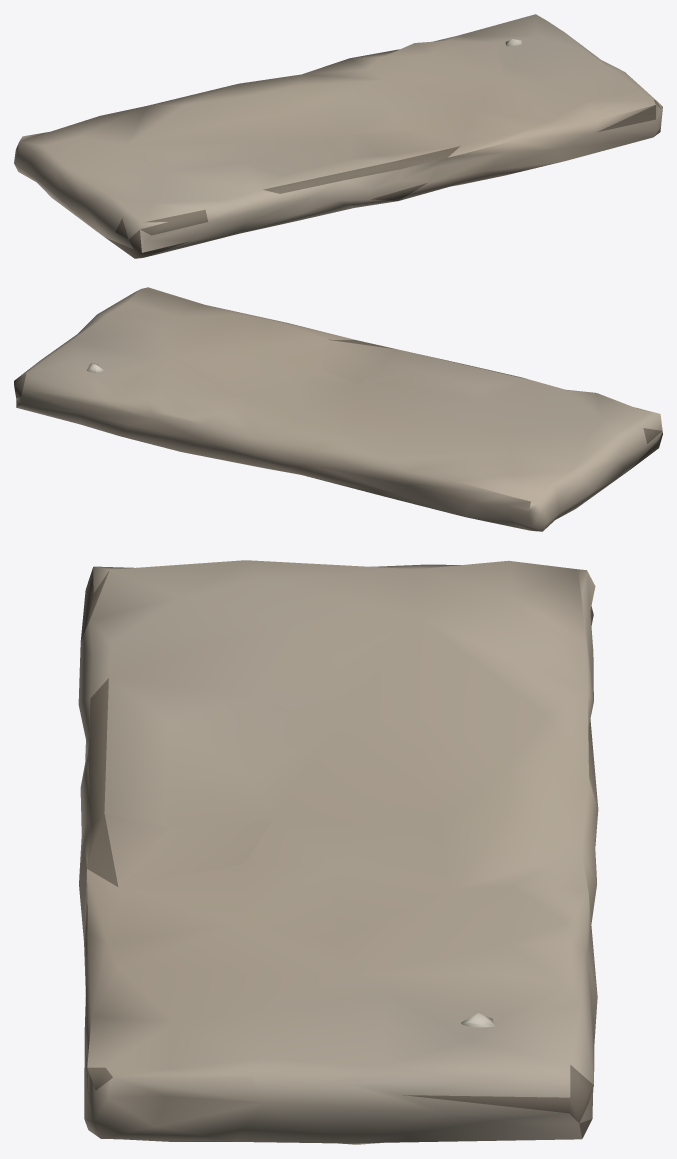
File: shore_driftwood_plank_lod1.glb
3 views of the same model, one above another, from view 1: azimuth 30°, elevation 25°; view 2: azimuth 150°, elevation 25°; view 3: azimuth 270°, elevation 25° (orthographic). The views are drawn at different scales.
Visible parts, largest first — view 1: shore_driftwood_plank.001; view 2: shore_driftwood_plank.001; view 3: shore_driftwood_plank.001.
Part boxes in pixels (x1,y1,x2,y2): shore_driftwood_plank.001: (14,14,662,258); shore_driftwood_plank.001: (14,287,662,531); shore_driftwood_plank.001: (78,560,598,1144).
Bounding box in the file's own units: 12.11 × 1 × 5.1.
